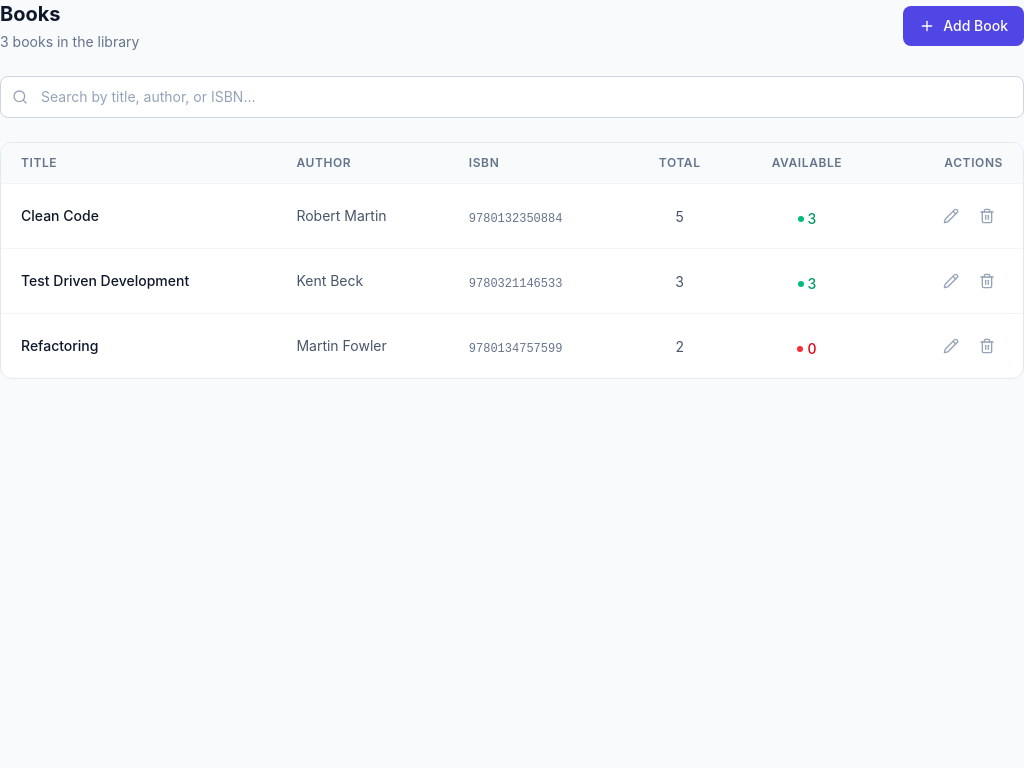
Scenario: Books › shows error toast when update fails with general error
Expected: the text "Clean Code" is shown, [21,207,99,224]
Click the button titled "Edit book" in the row of "Clean Code".
click(951, 216)  # box [935,200,967,232]
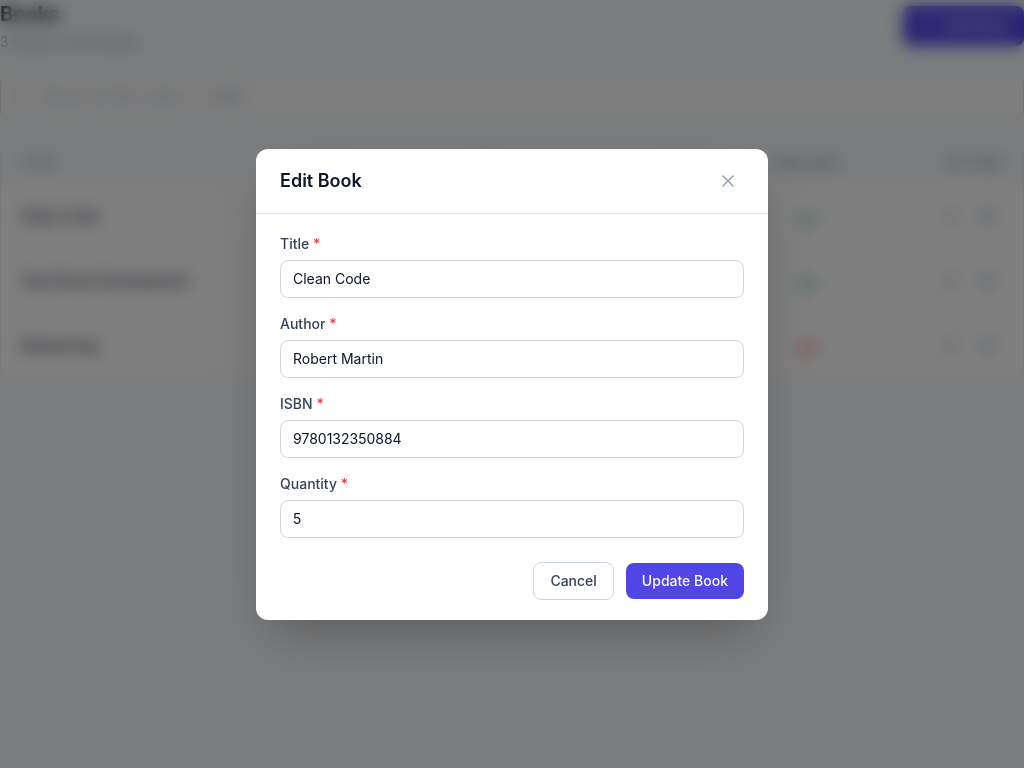
Click the button "Update Book".
click(685, 580)  # box [626,562,744,598]
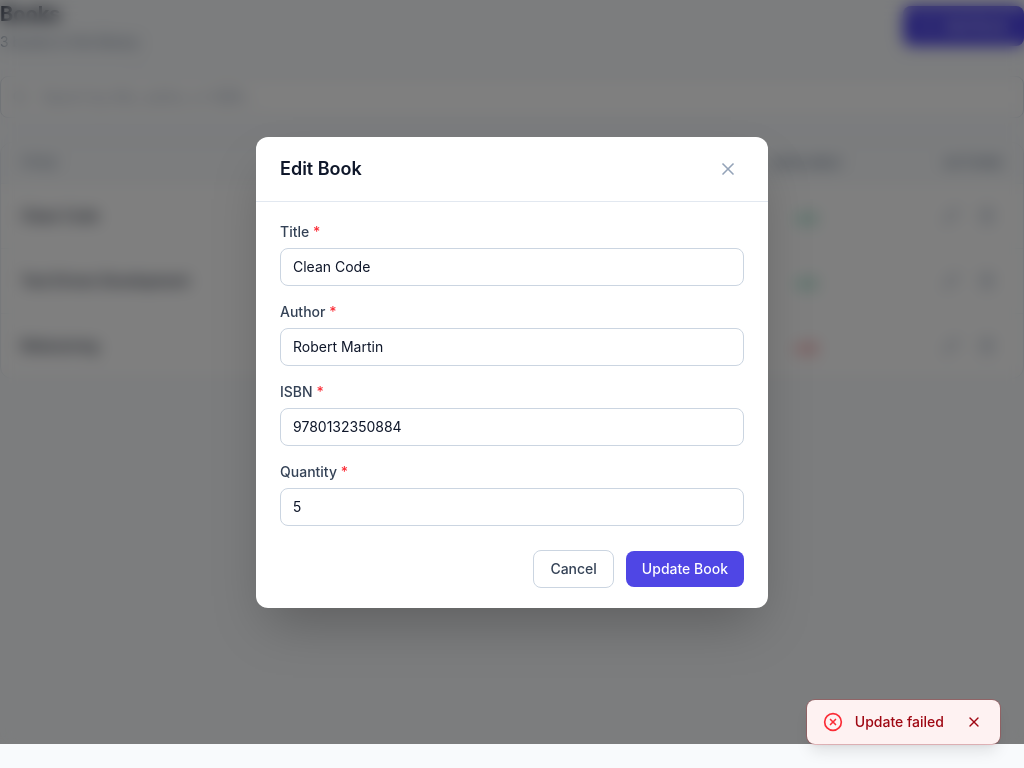
Result: the text "Update failed" is shown at [855,712,944,732]
